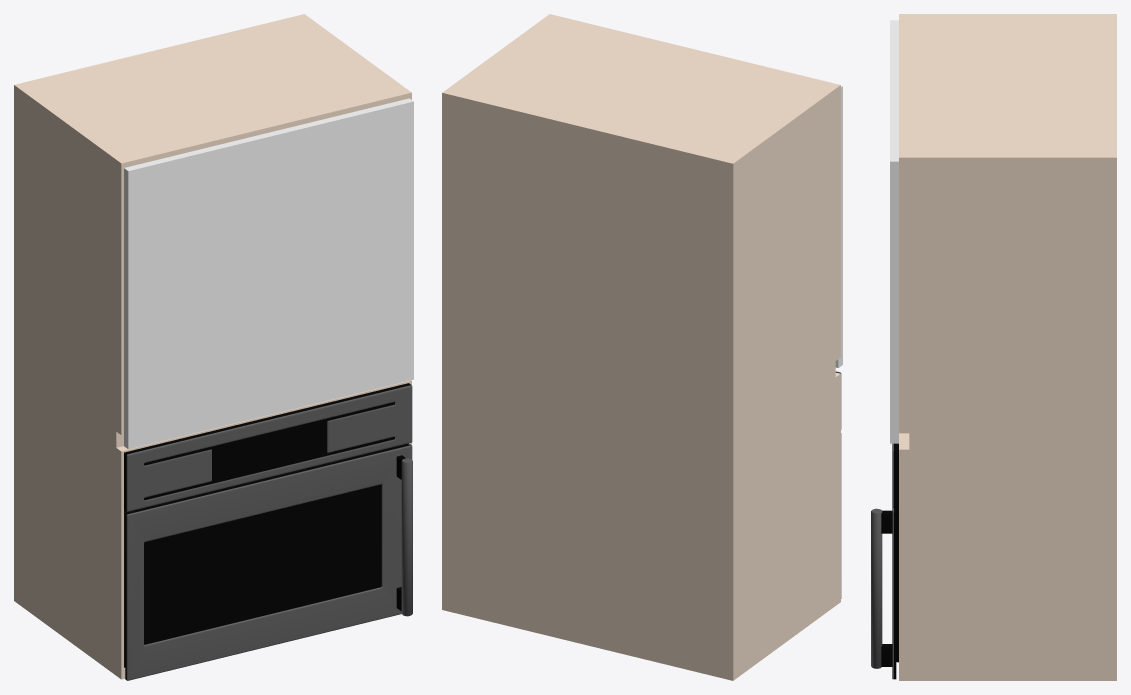
The model's file is KTCH_ELIX_Cabinet_60_40_100_Micorwave.FBX.
3 views of the same model, side by side, from view 1: azimuth 30°, elevation 25°; view 2: azimuth 150°, elevation 25°; view 3: azimuth 270°, elevation 25° (orthographic).
Parts seen in each view (by area): view 1: KTCH_ELIX_Cabinet_60_40_100_Micorwave; view 2: KTCH_ELIX_Cabinet_60_40_100_Micorwave; view 3: KTCH_ELIX_Cabinet_60_40_100_Micorwave.
Part boxes in pixels (x1,y1,x2,y2): KTCH_ELIX_Cabinet_60_40_100_Micorwave: [14, 14, 413, 680]; KTCH_ELIX_Cabinet_60_40_100_Micorwave: [442, 14, 842, 680]; KTCH_ELIX_Cabinet_60_40_100_Micorwave: [871, 14, 1116, 680].
Size of the model in its own units: 60 by 43.37 by 102.
